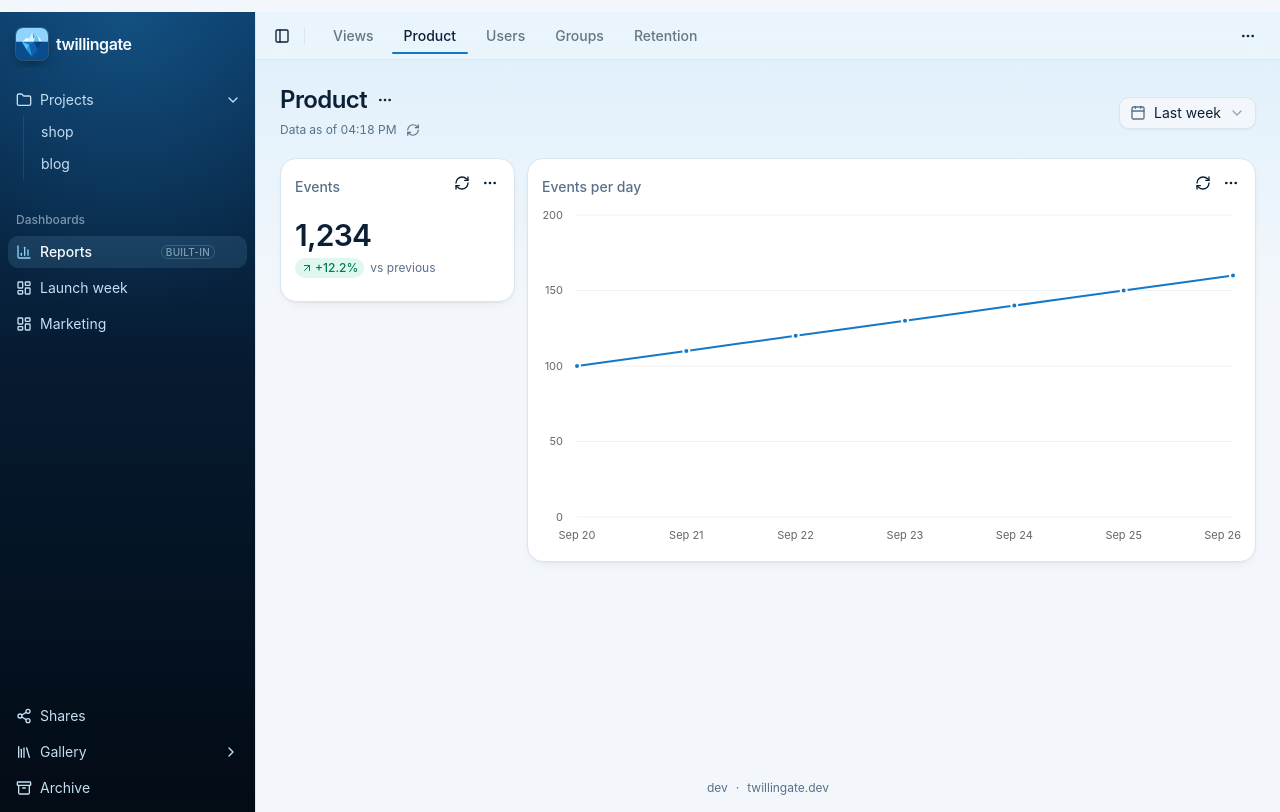
Test: Dashboard › offers only Download PNG on a dashboard with no project switcher
Click the 1st button named "Widget actions" at (490, 183), box [476,169,504,197]
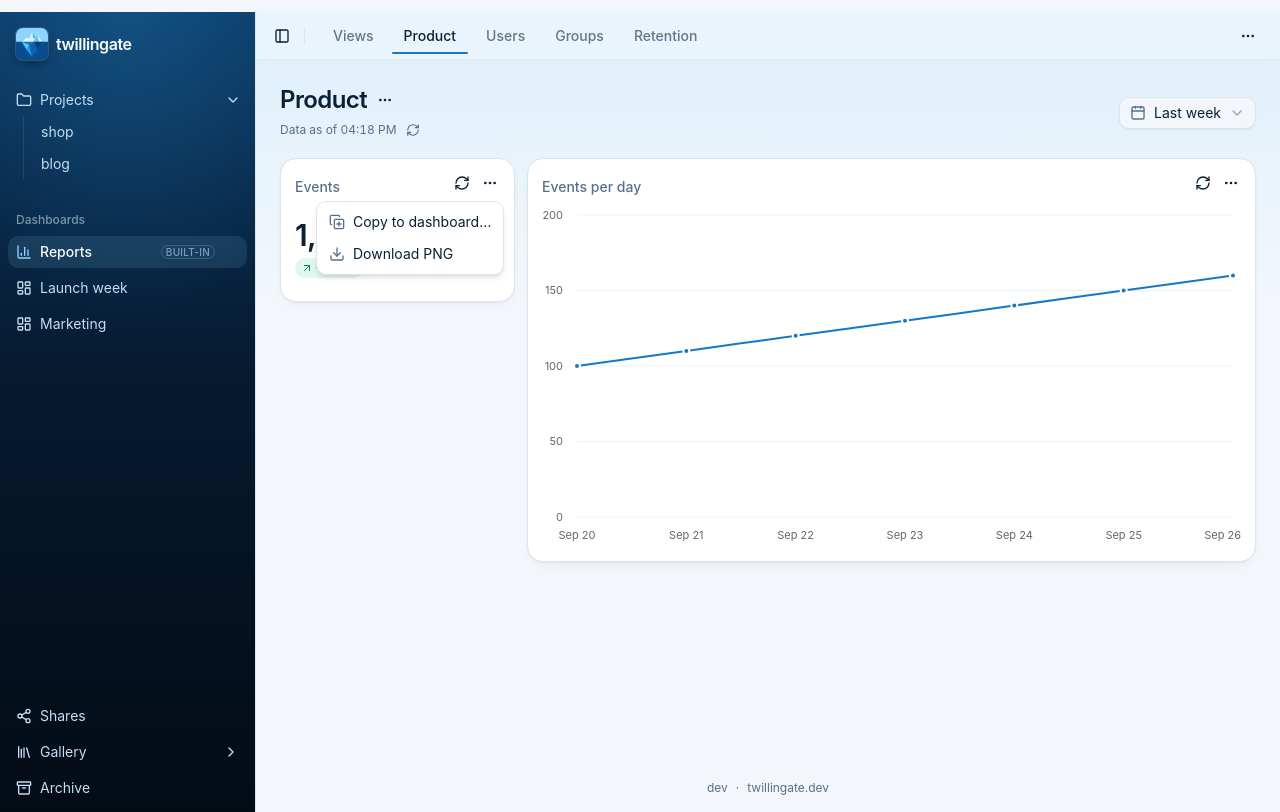
Result: the menu item "Download PNG" is shown at [329,245,453,262]
